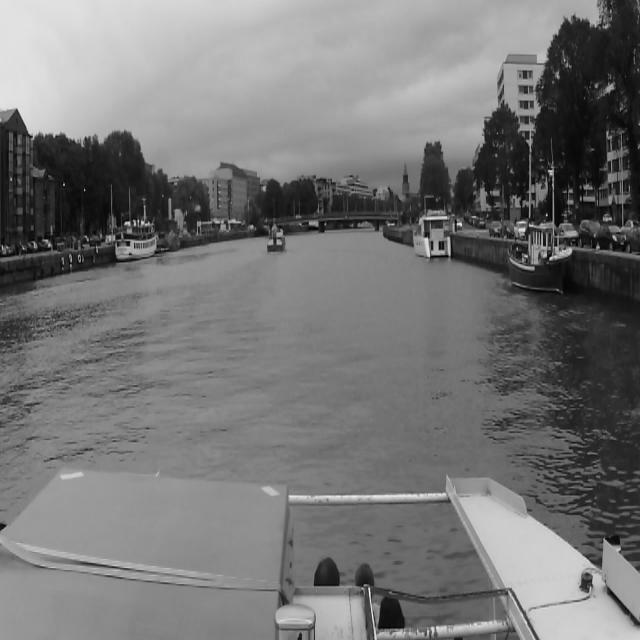ship: (507, 160, 573, 303), (413, 206, 451, 263), (114, 217, 158, 264), (266, 226, 286, 252)
